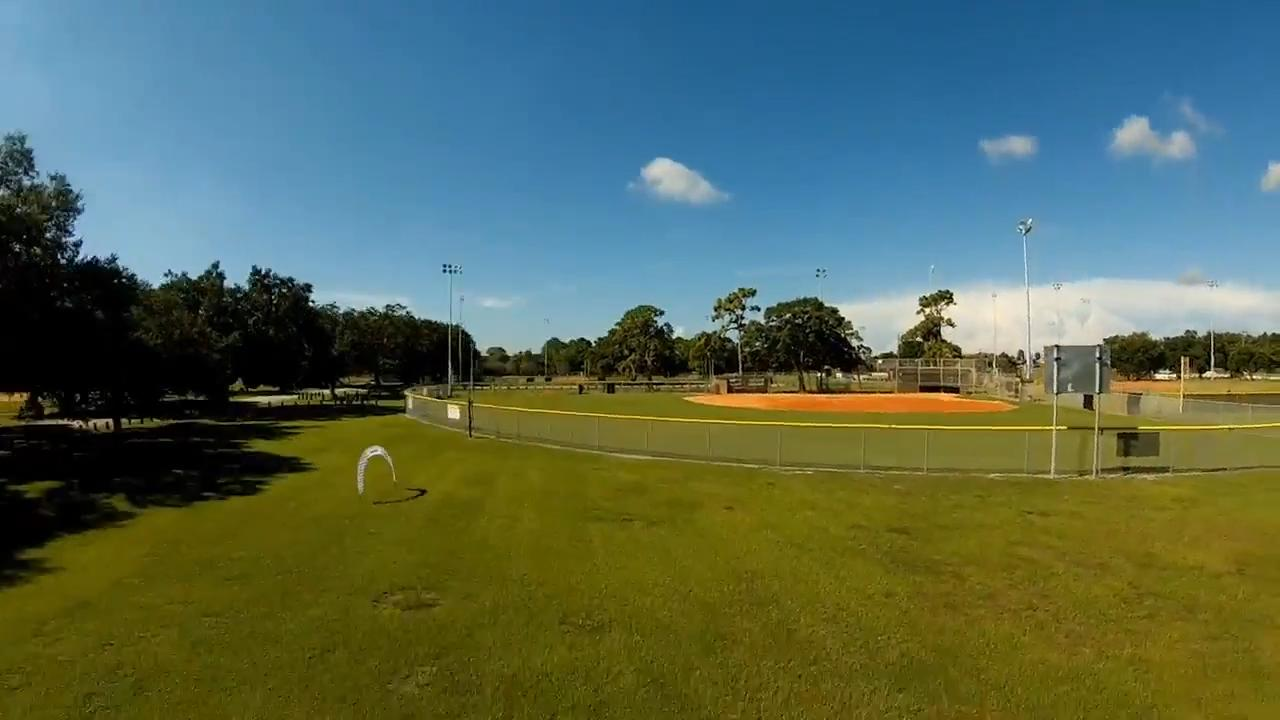gate: (352, 443, 399, 497)
